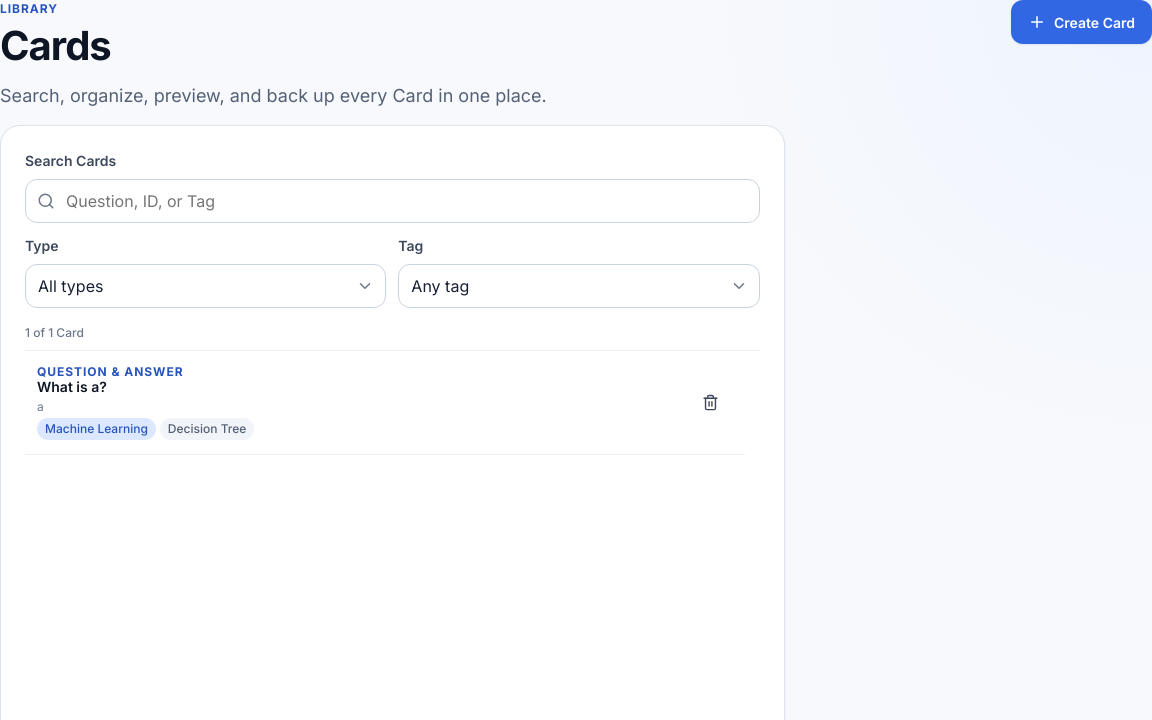
Test: Cancel closes the Delete modal and keeps the Card
Click the button named "Delete a".
click(711, 402)  # box [689,380,733,424]
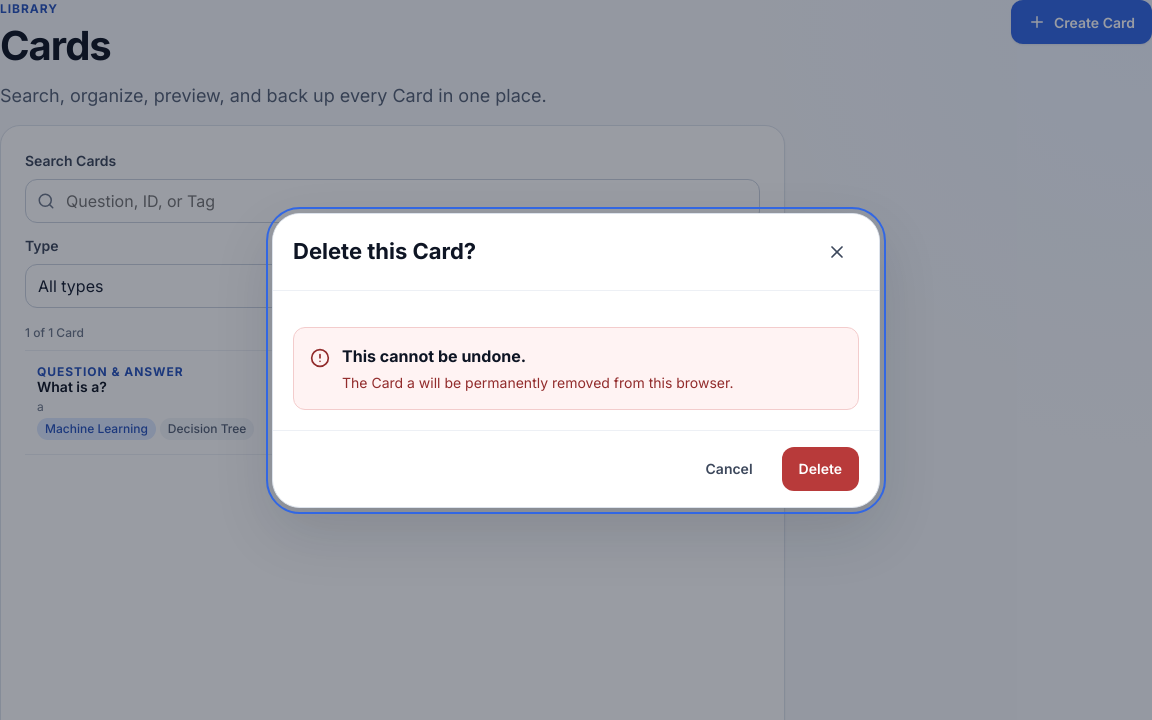
Click the button "Cancel".
click(729, 468)  # box [688,446,770,490]
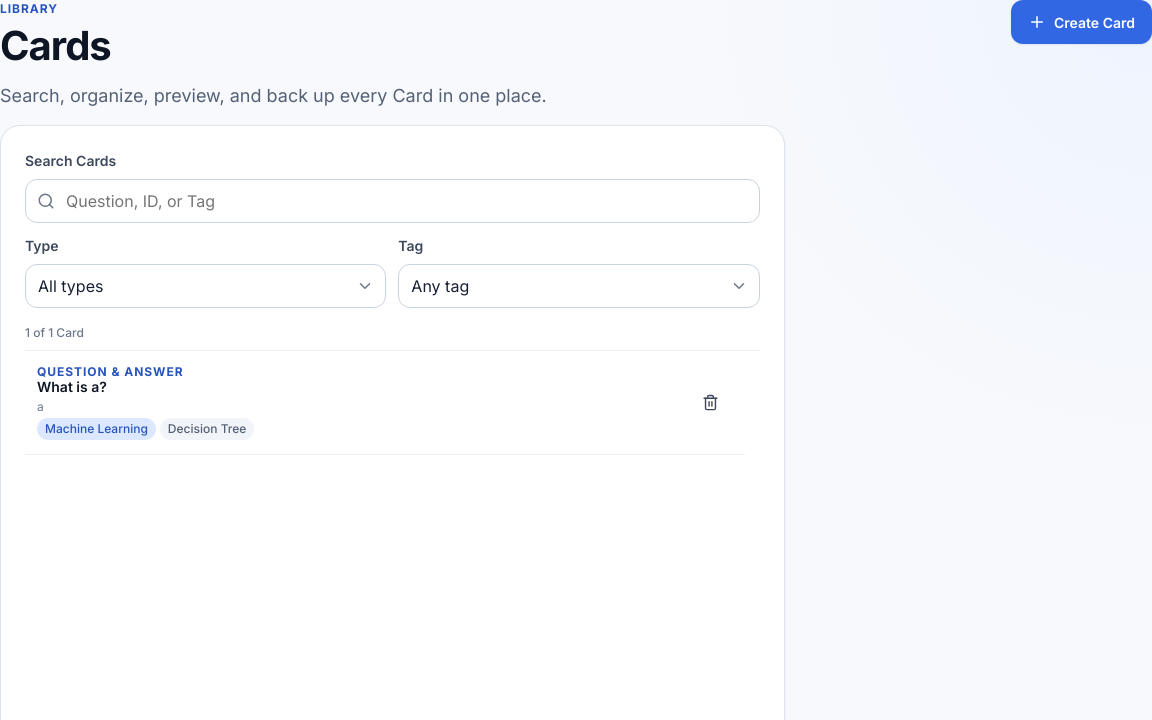
Check: the dialog is gone
